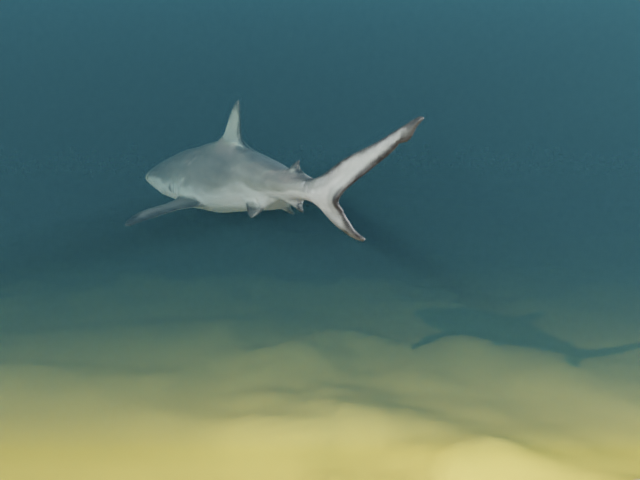Carribean Shark.001: (124, 99, 424, 241)
